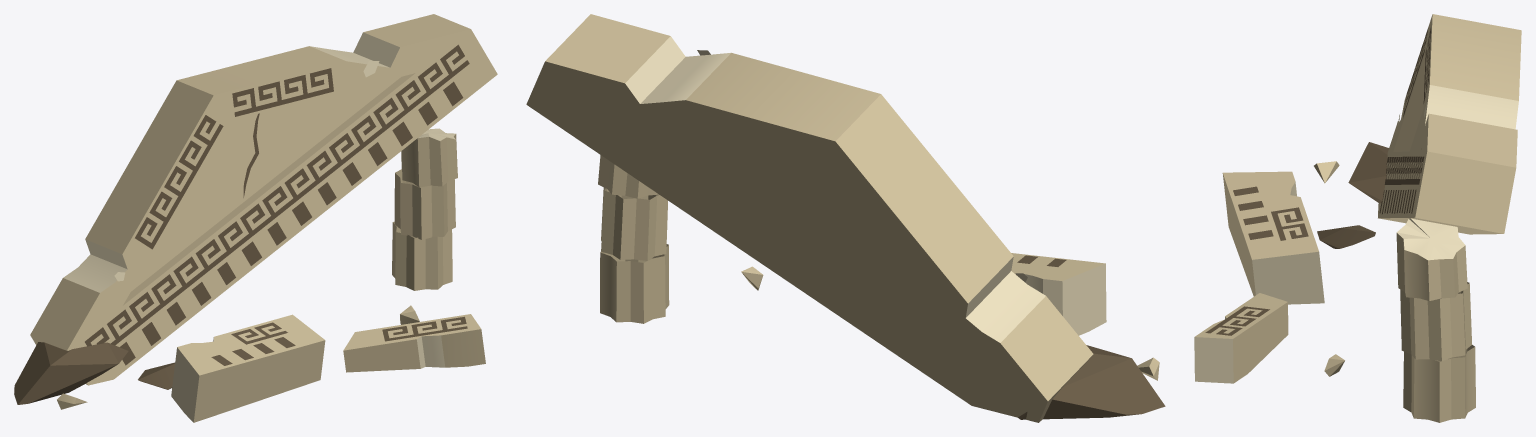
Rendered from stamp-pediment-0.glb.
3 views of the same model, side by side, from view 1: azimuth 30°, elevation 25°; view 2: azimuth 150°, elevation 25°; view 3: azimuth 270°, elevation 25° (orthographic). The views are drawn at different scales.
Visible parts, largest first — view 1: stamp-pediment-0; view 2: stamp-pediment-0; view 3: stamp-pediment-0.
Part boxes in pixels (left/top/right/bottom): stamp-pediment-0: left=14, top=14, right=497, bottom=422; stamp-pediment-0: left=526, top=14, right=1165, bottom=422; stamp-pediment-0: left=1194, top=14, right=1521, bottom=422.
Size of the model in its own units: 5.18 by 2.4 by 2.54.
